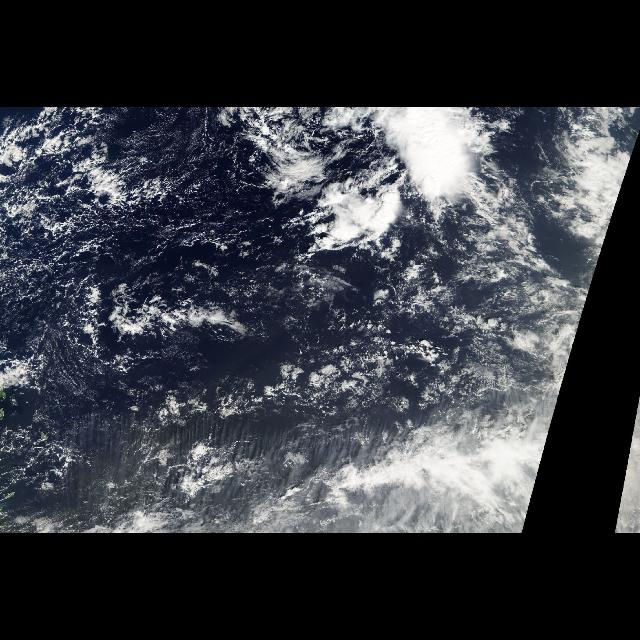Gravel: (4, 125, 260, 359)
